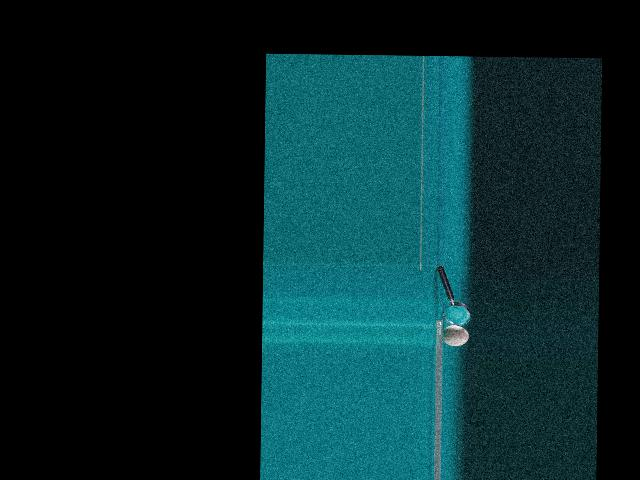egg: (441, 325, 468, 346)
